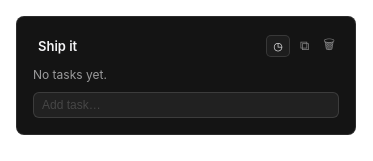
Test case: AnimalDetail timer picker › opens the timer dropdown from the clock button
Click the button named "edit focus timer". click: point(278, 46)
box: left=266, top=35, right=290, bottom=57
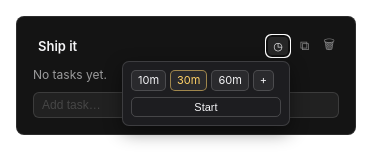
Expected: the button "Start" is shown, left=131, top=97, right=281, bottom=117
